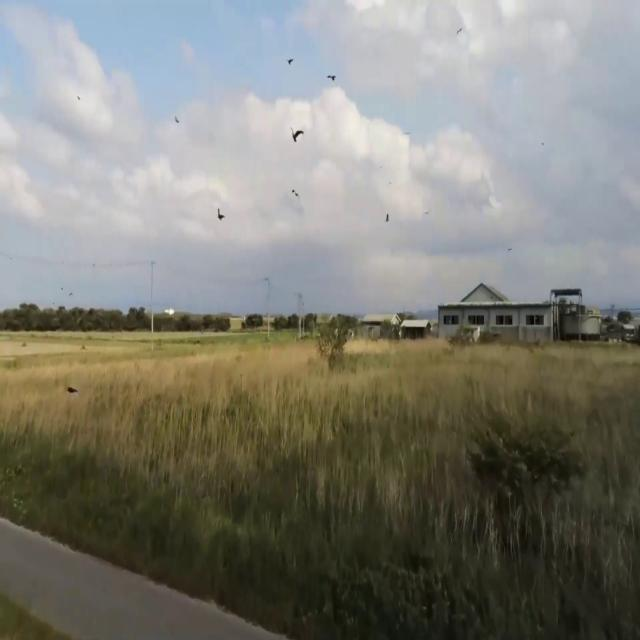bird: (289, 118, 305, 154), (66, 380, 78, 404), (326, 66, 336, 90), (291, 182, 300, 206), (286, 50, 294, 72)
